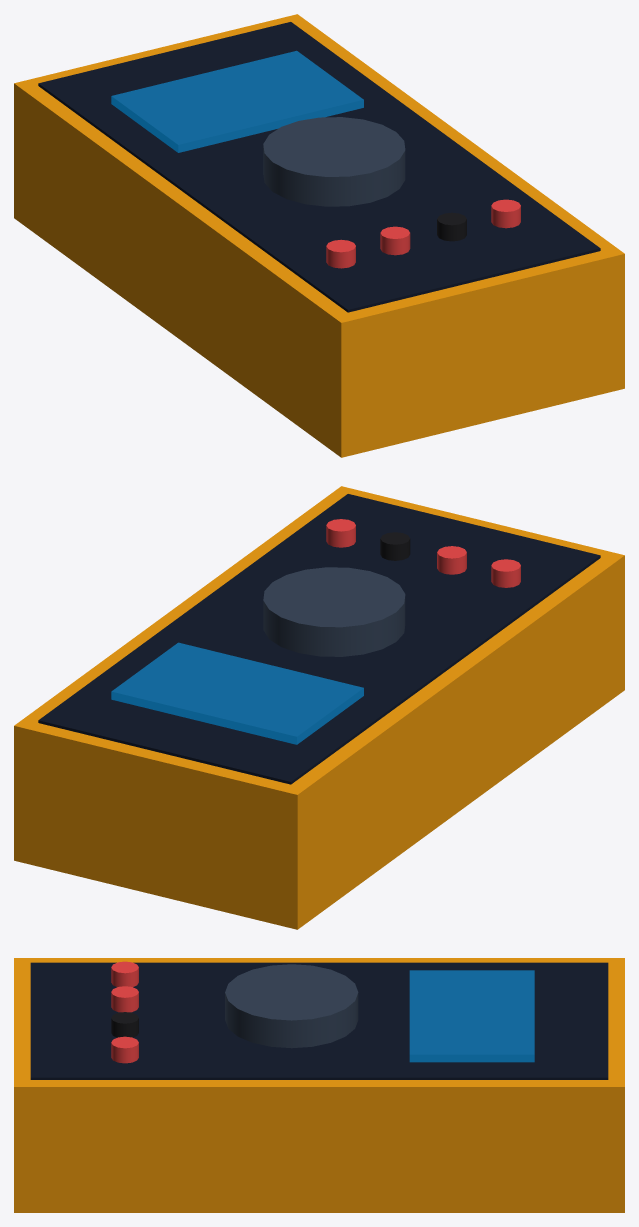
File: digital_multimeter.glb
The picture shows the model from 3 angles, top to bottom: view 1: azimuth 30°, elevation 25°; view 2: azimuth 150°, elevation 25°; view 3: azimuth 270°, elevation 25°; orthographic projection. The views are drawn at different scales.
Parts seen in each view (by area): view 1: Fluke_Digital_Multimeter, DMM_LCD_Readout, DMM_Rotary_Dial, Jack_mA, Jack_V_Ohm, Jack_COM, Jack_10A; view 2: Fluke_Digital_Multimeter, DMM_LCD_Readout, DMM_Rotary_Dial, Jack_COM, Jack_mA, Jack_V_Ohm, Jack_10A; view 3: Fluke_Digital_Multimeter, DMM_LCD_Readout, DMM_Rotary_Dial, Jack_V_Ohm, Jack_mA, Jack_COM, Jack_10A.
Boxes of the visible parts, left/top/right/bottom form: Fluke_Digital_Multimeter: left=14, top=14, right=624, bottom=457; DMM_LCD_Readout: left=111, top=50, right=363, bottom=152; DMM_Rotary_Dial: left=263, top=117, right=405, bottom=206; Jack_mA: left=380, top=226, right=410, bottom=255; Jack_V_Ohm: left=491, top=199, right=520, bottom=228; Jack_COM: left=437, top=212, right=466, bottom=241; Jack_10A: left=326, top=239, right=355, bottom=268; Fluke_Digital_Multimeter: left=14, top=486, right=624, bottom=929; DMM_LCD_Readout: left=111, top=642, right=363, bottom=744; DMM_Rotary_Dial: left=263, top=567, right=405, bottom=656; Jack_COM: left=380, top=532, right=410, bottom=560; Jack_mA: left=437, top=546, right=466, bottom=574; Jack_V_Ohm: left=326, top=519, right=355, bottom=547; Jack_10A: left=491, top=559, right=520, bottom=587; Fluke_Digital_Multimeter: left=14, top=958, right=624, bottom=1212; DMM_LCD_Readout: left=409, top=970, right=534, bottom=1062; DMM_Rotary_Dial: left=225, top=964, right=358, bottom=1048; Jack_V_Ohm: left=111, top=1036, right=138, bottom=1063; Jack_mA: left=111, top=986, right=138, bottom=1012; Jack_COM: left=111, top=1012, right=138, bottom=1037; Jack_10A: left=111, top=961, right=138, bottom=986.
Size of the model in its own units: 0.11 by 0.062 by 0.22.
